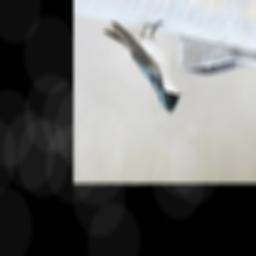Swallow: (102, 17, 183, 115)
